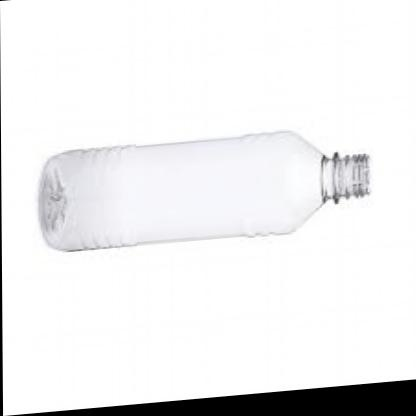trash: (39, 131, 368, 250)
